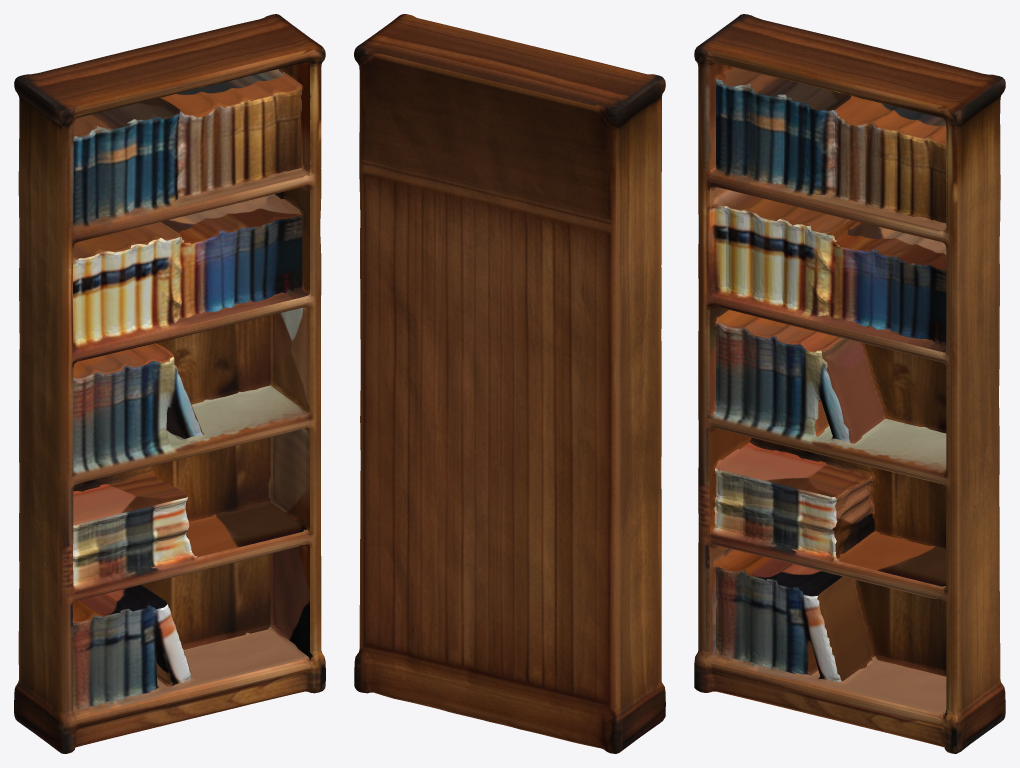
The model's file is mdl_bookshelf_001.glb.
The picture shows the model from 3 angles, left to right: view 1: azimuth 30°, elevation 25°; view 2: azimuth 150°, elevation 25°; view 3: azimuth 330°, elevation 25°; orthographic projection.
Visible parts, largest first — view 1: tmp5u7i10k2.ply; view 2: tmp5u7i10k2.ply; view 3: tmp5u7i10k2.ply.
Boxes of the visible parts, <box> form: tmp5u7i10k2.ply: <box>14,14,325,753</box>; tmp5u7i10k2.ply: <box>354,14,665,753</box>; tmp5u7i10k2.ply: <box>694,14,1005,753</box>.
Bounding box in the file's own units: 0.4273 × 0.9907 × 0.1377.
Materials: 1 (1 with a texture image).
